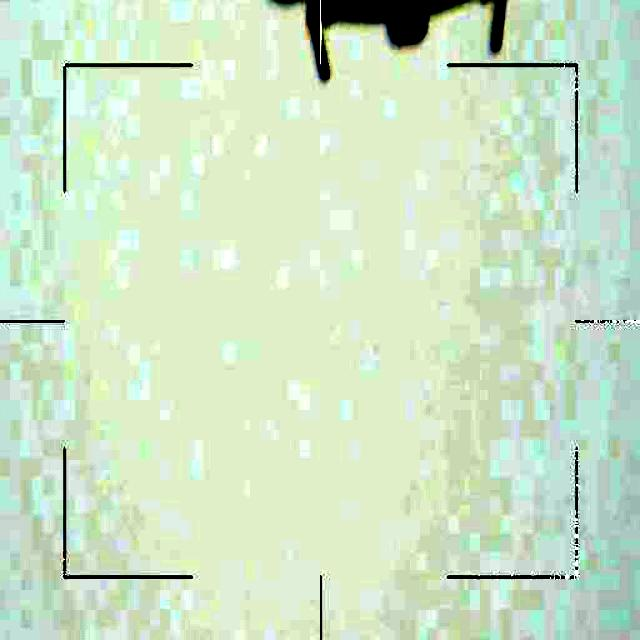bird: (254, 0, 552, 86)
